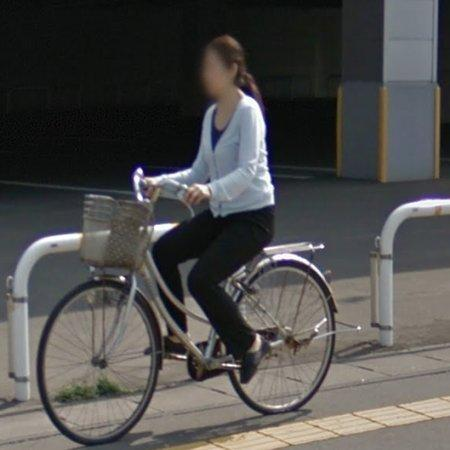bicycles: (37, 169, 338, 446)
